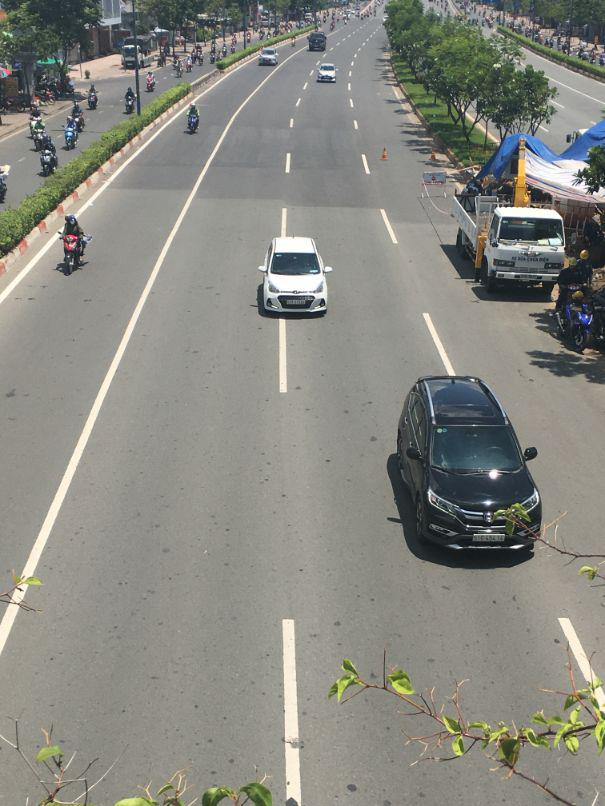car: (387, 375, 543, 557), (256, 240, 330, 318), (316, 62, 337, 83), (258, 52, 278, 68)
motorbike: (59, 236, 88, 275), (186, 105, 199, 132), (64, 121, 77, 147), (88, 86, 98, 108), (147, 74, 155, 93)
truck: (445, 189, 566, 293), (308, 33, 326, 51)
